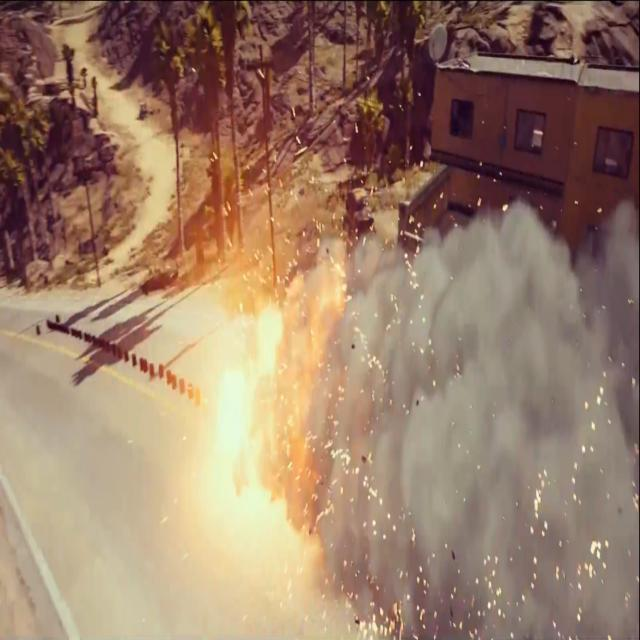fire: (205, 308, 293, 544)
